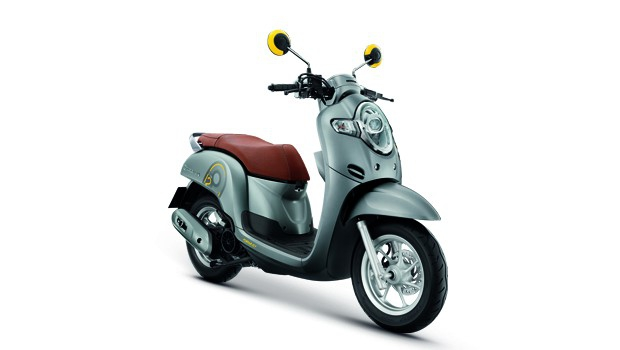motorcycle: (169, 27, 450, 336)
